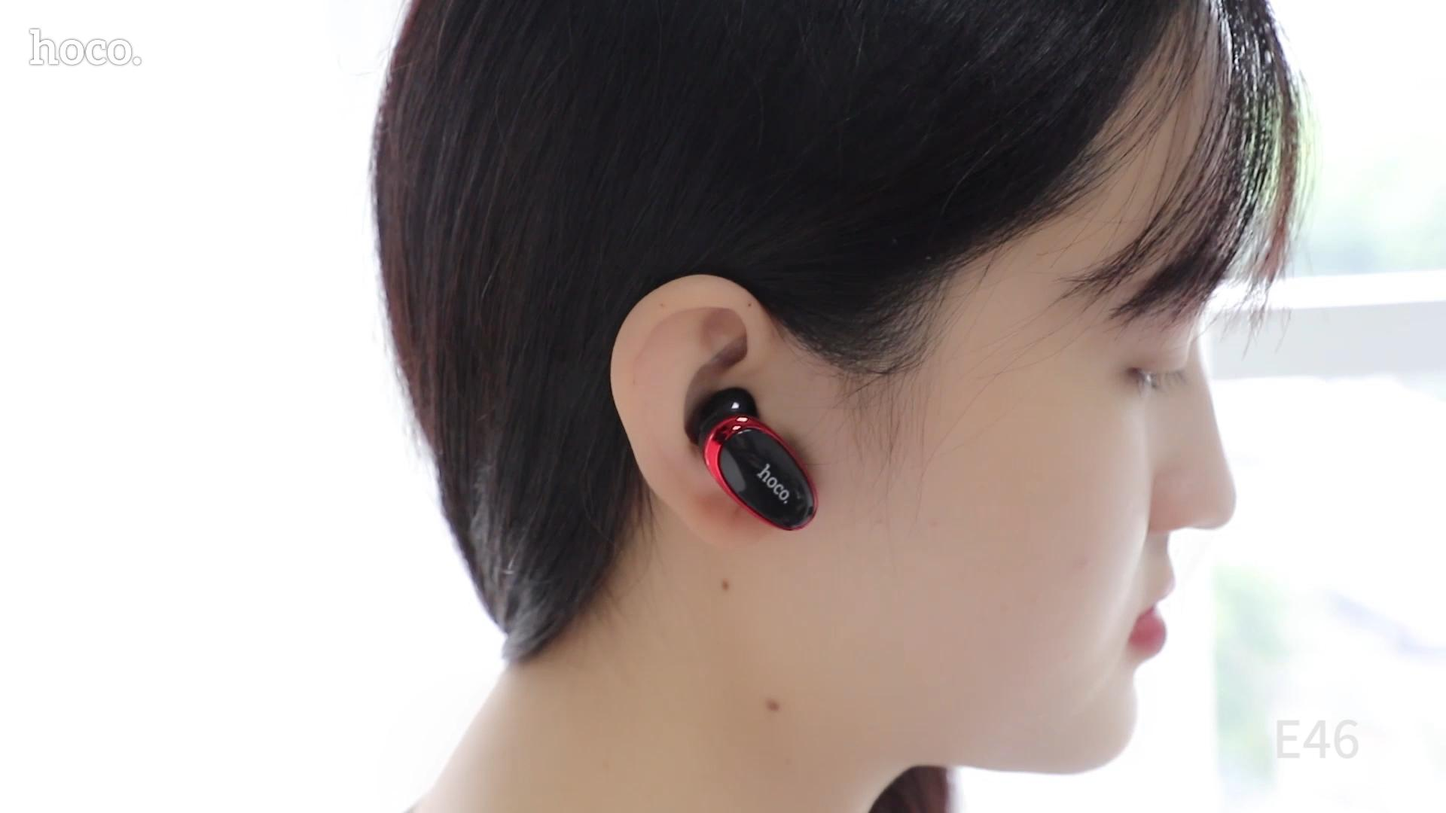earphone: (681, 380, 823, 544)
